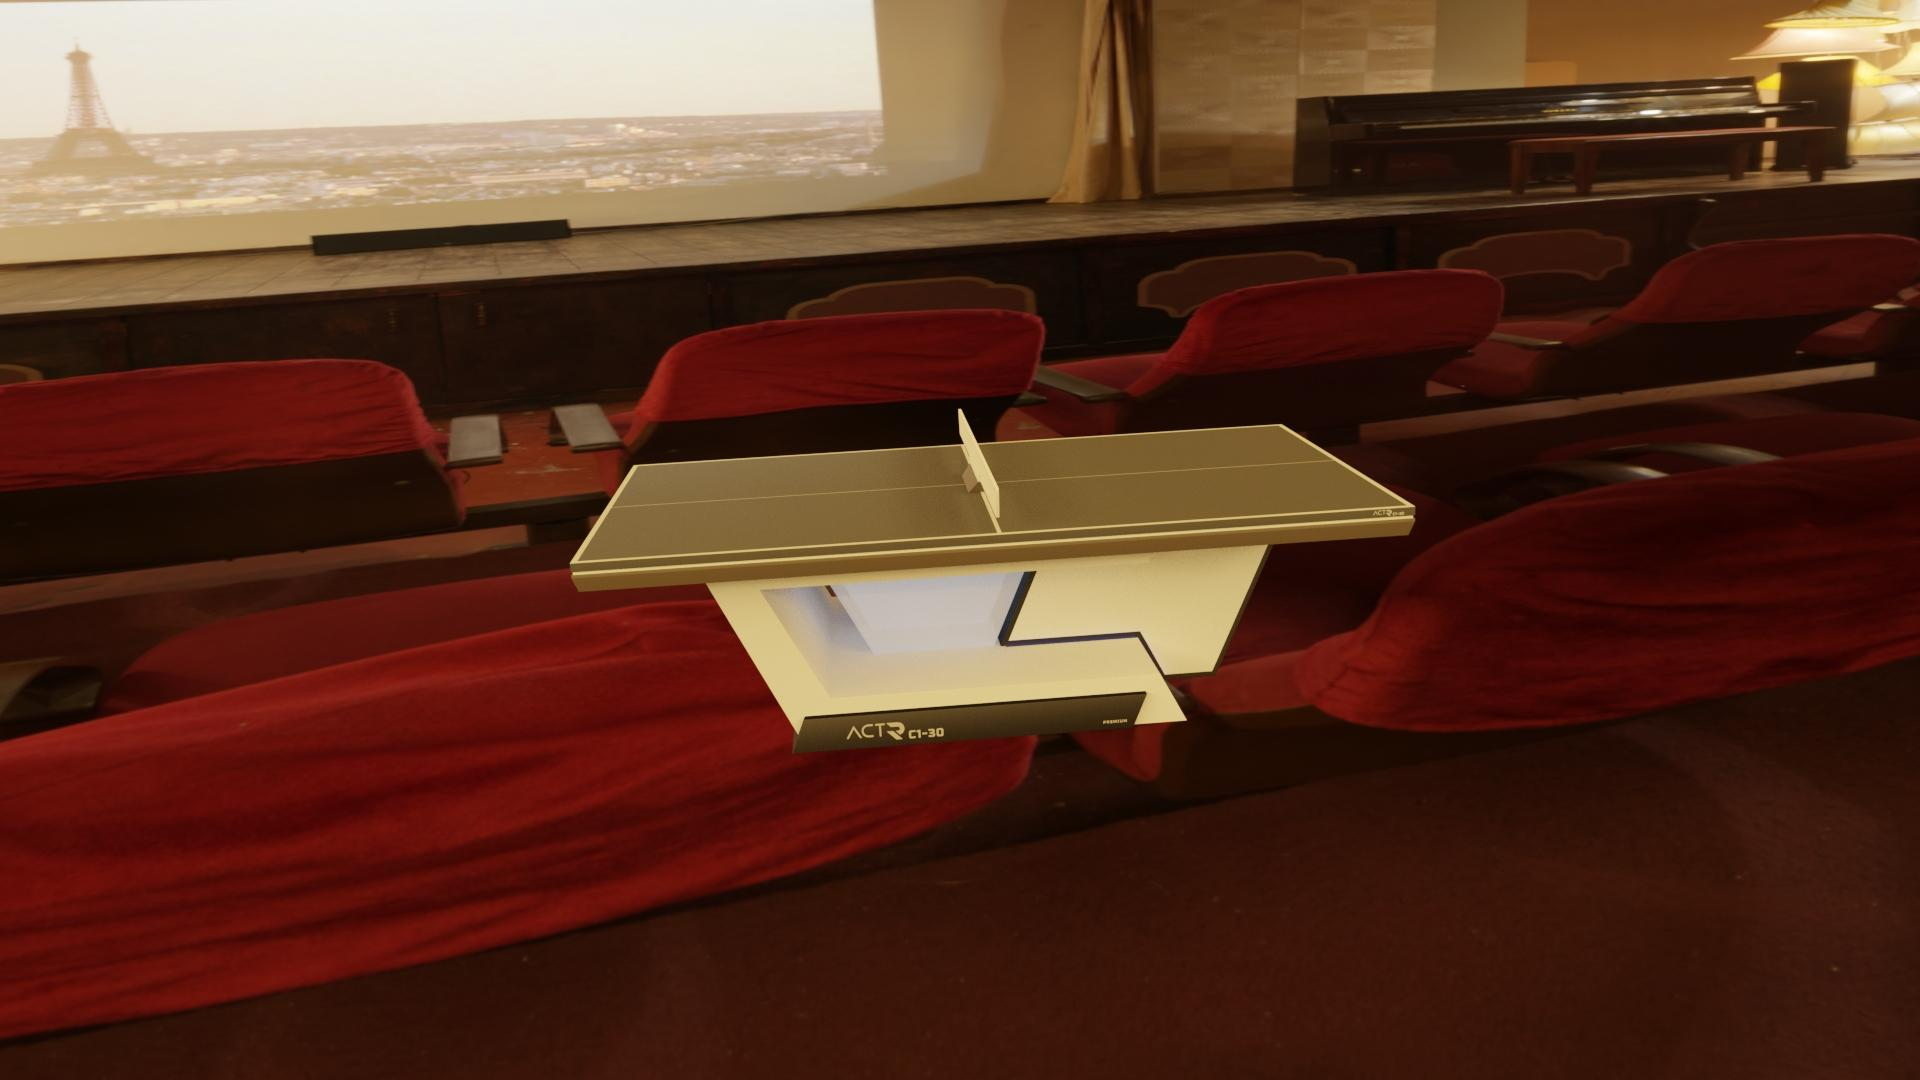table: (578, 426, 1407, 562)
